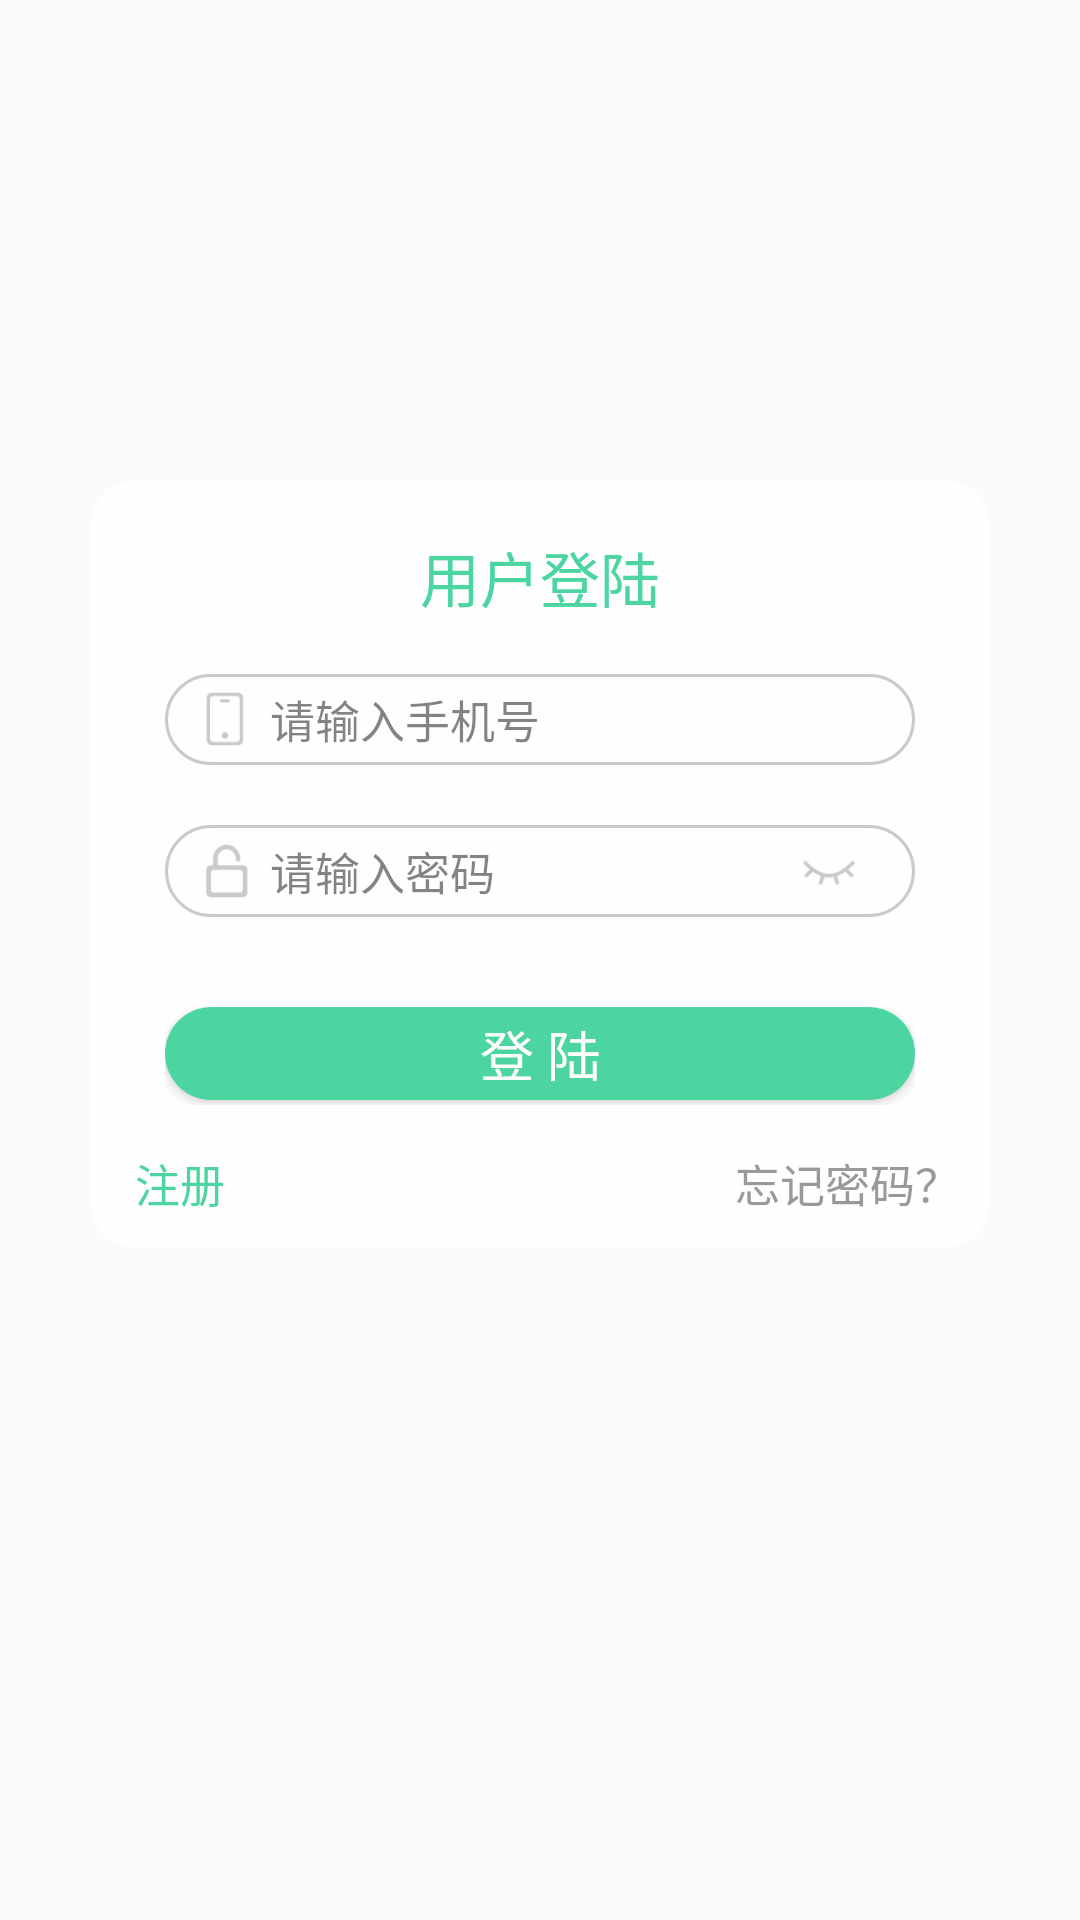

Named icons in this screenshot (1080 × 1920) and their bounding boxes, bbox=[x1, y1, x2, y2]:
invisible: bbox=[804, 861, 854, 885]
password: bbox=[206, 845, 247, 897]
phone: bbox=[207, 693, 243, 745]
